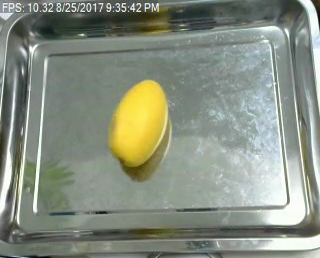Mango: (105, 79, 171, 169)
